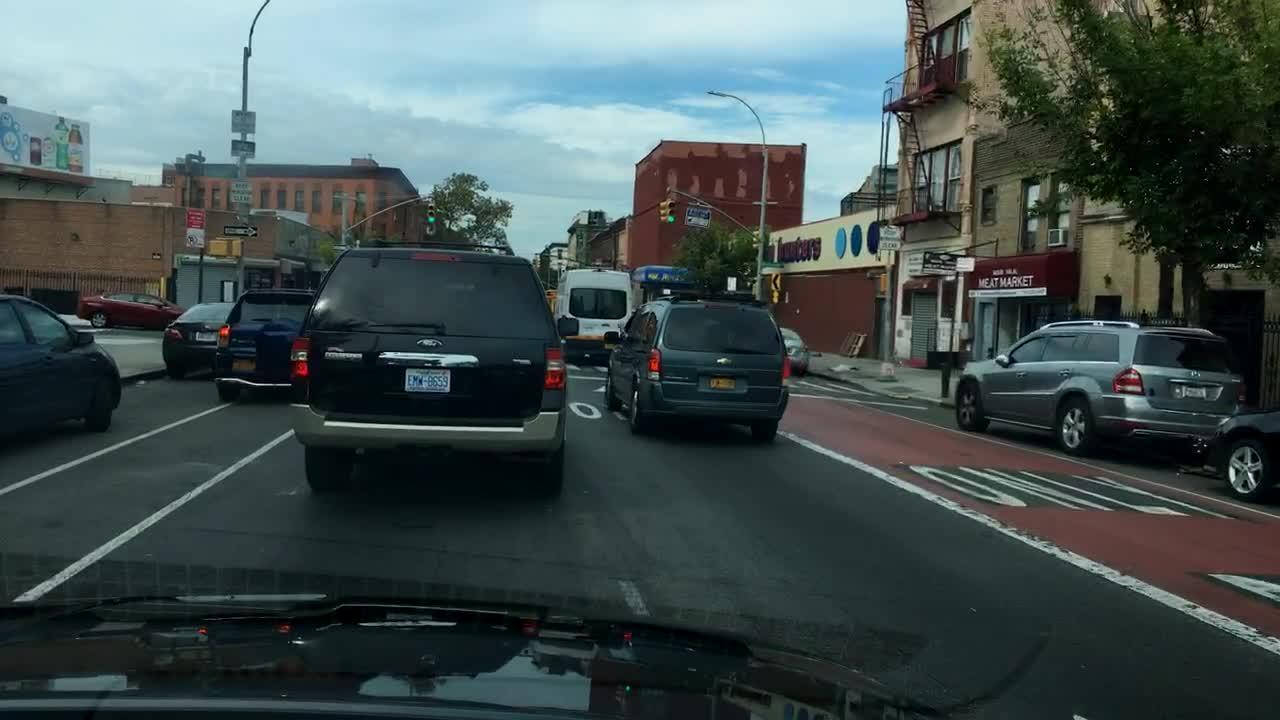chevrolet: (714, 355, 737, 369)
ford: (412, 332, 446, 356)
